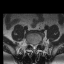CCS_normal: (33, 42, 35, 50)
LFS_stenosis: (37, 41, 39, 47)
LLS_normal: (35, 42, 37, 50)
RFS_normal: (29, 40, 31, 47)
RLS_normal: (31, 42, 33, 50)
